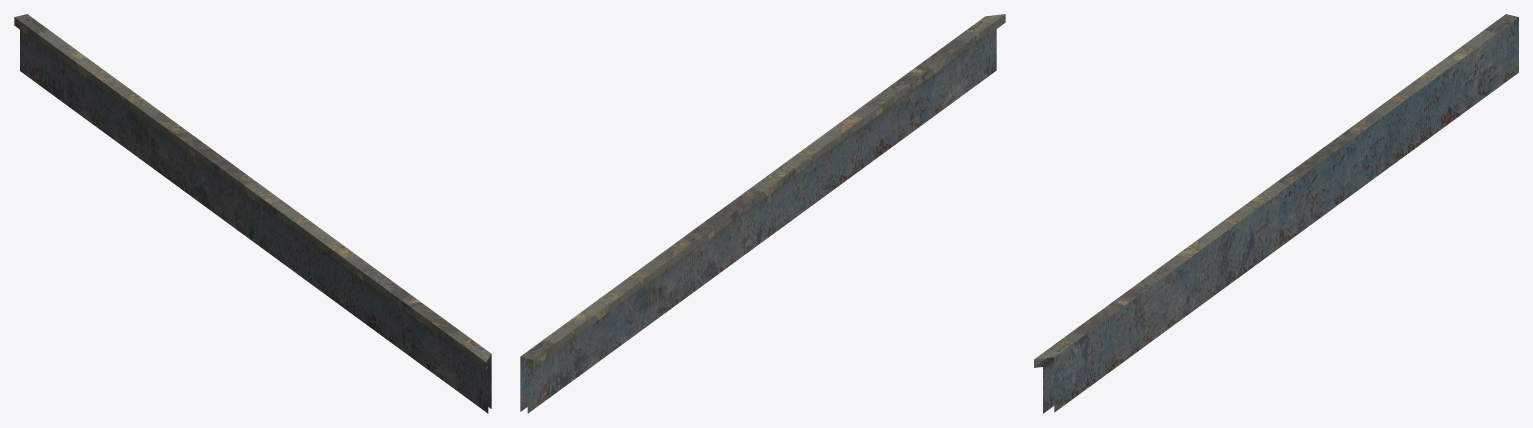
The model's file is Roof_SideWall_02.FBX.
3 renders of one model, left to right at view 1: azimuth 30°, elevation 25°; view 2: azimuth 150°, elevation 25°; view 3: azimuth 330°, elevation 25°, orthographic.
Parts seen in each view (by area): view 1: Roof_SideWall_02; view 2: Roof_SideWall_02; view 3: Roof_SideWall_02.
Boxes of the visible parts, x1,y1,x2,y2 form: Roof_SideWall_02: (14,14,491,413); Roof_SideWall_02: (520,14,1005,413); Roof_SideWall_02: (1034,14,1518,413).
Size of the model in its own units: 22.66 by 92.93 by 1434.
